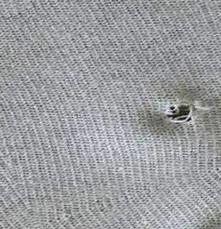hole: (159, 97, 199, 127)
